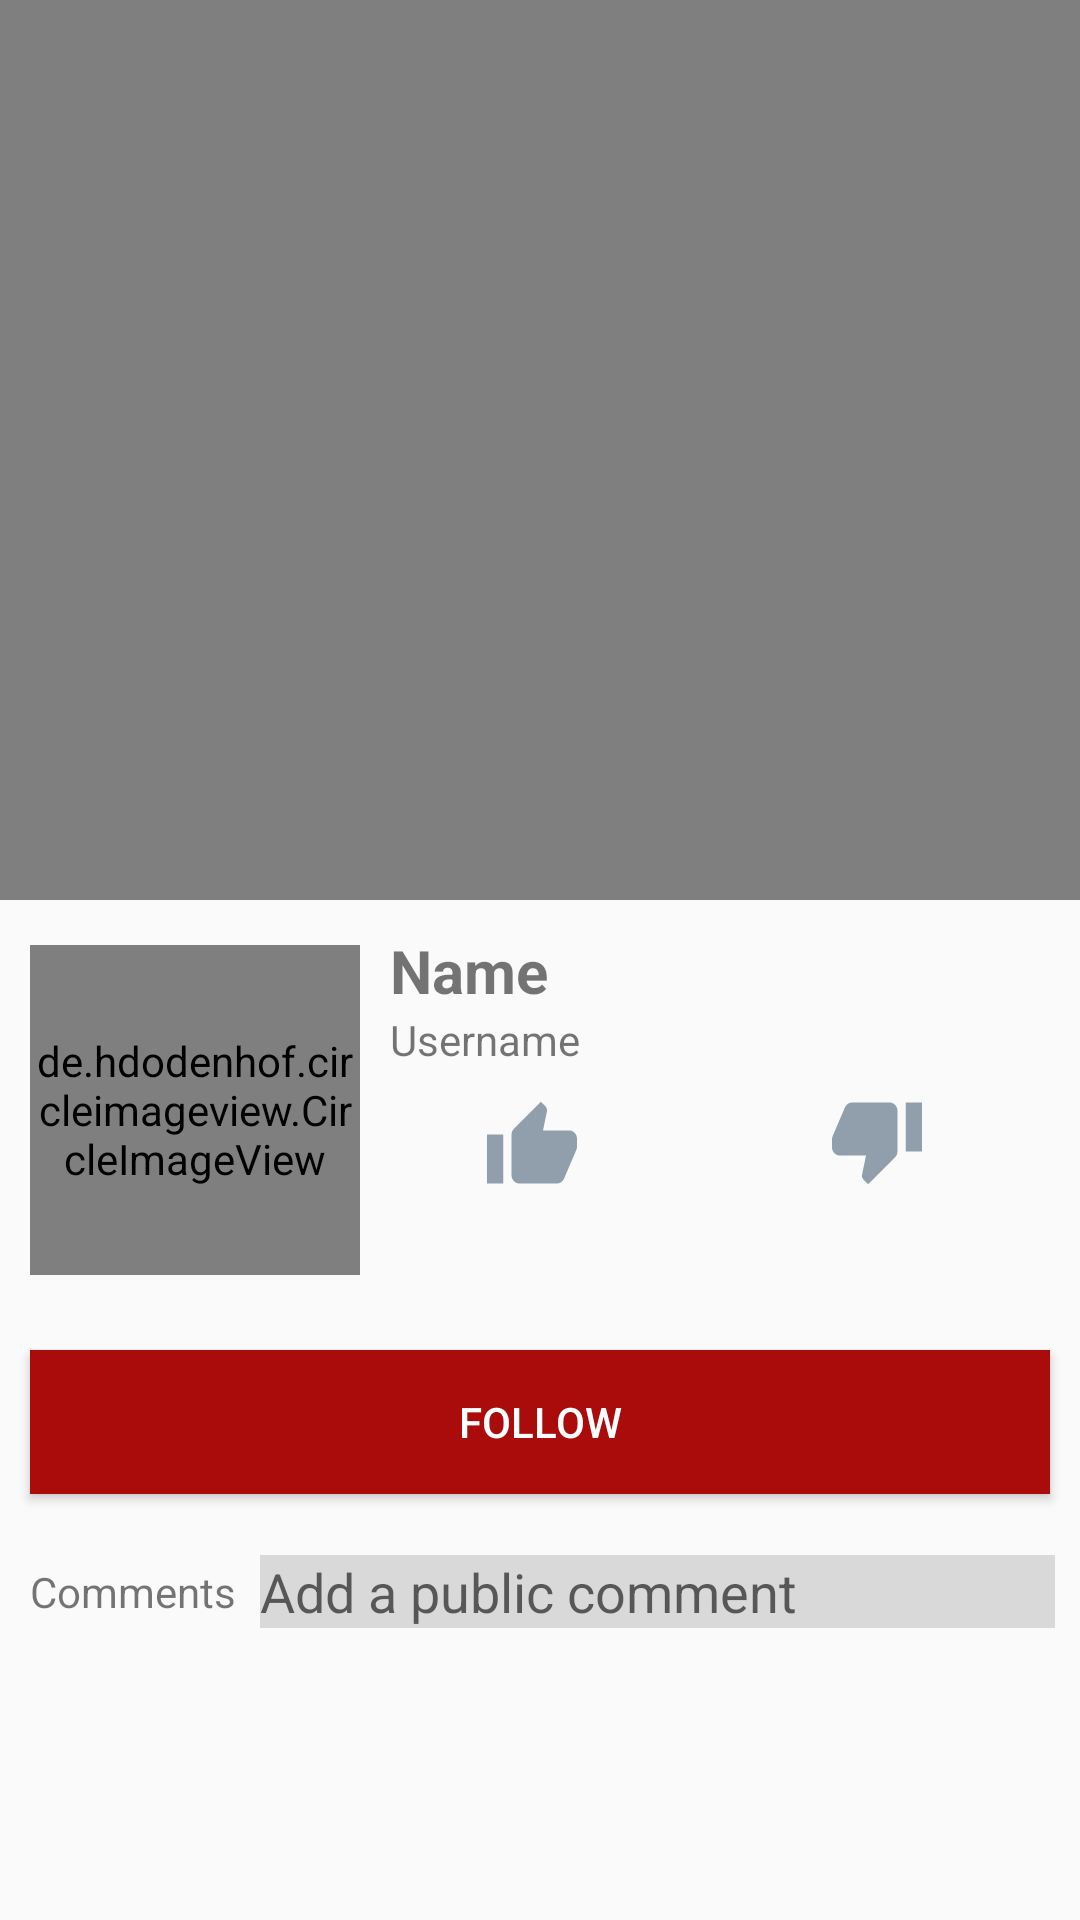

Where to tap for icons on this 1080w x 1920h app screen, as (x,y):
dislike ut: (877,1143)
like ut: (532,1143)
